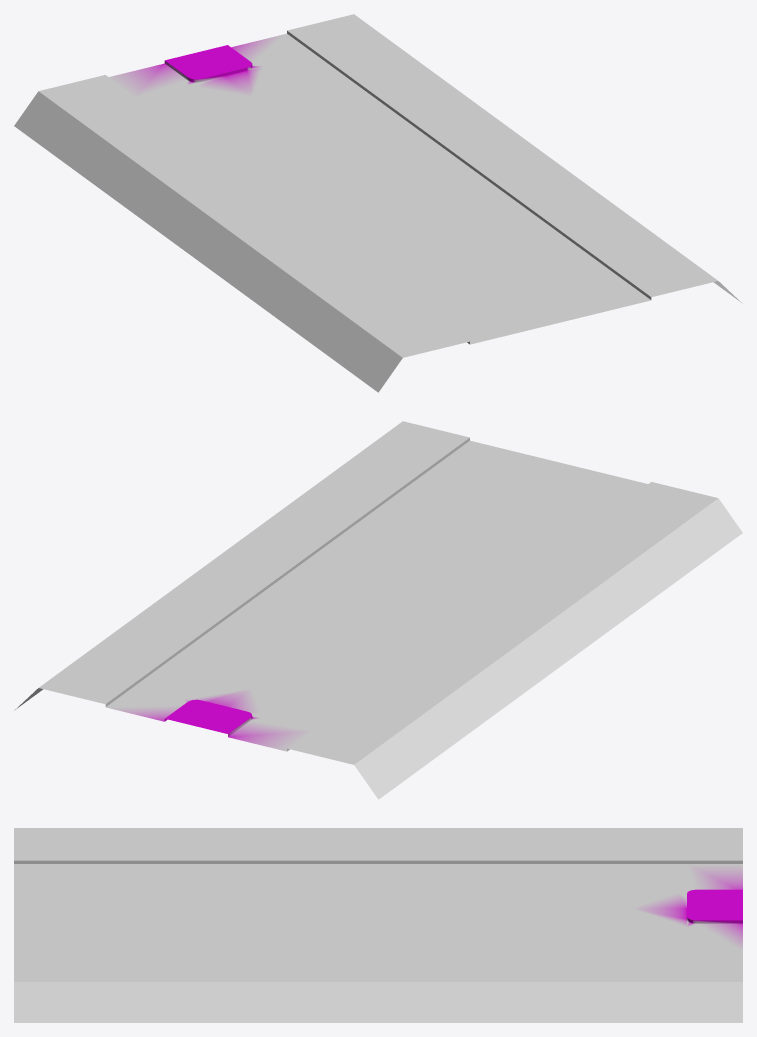
The model's file is Medium Road Slope_node_1.fbx.
3 views of the same model, one above another, from view 1: azimuth 30°, elevation 25°; view 2: azimuth 150°, elevation 25°; view 3: azimuth 270°, elevation 25° (orthographic).
Parts seen in each view (by area): view 1: medium-tunnel-slope_node; view 2: medium-tunnel-slope_node; view 3: medium-tunnel-slope_node.
Part boxes in pixels (bbox=[...]): medium-tunnel-slope_node: bbox=[14, 14, 742, 392]; medium-tunnel-slope_node: bbox=[14, 421, 742, 799]; medium-tunnel-slope_node: bbox=[14, 828, 742, 1022].
Bounding box in the file's own units: 36.96 × 2.8 × 64.
